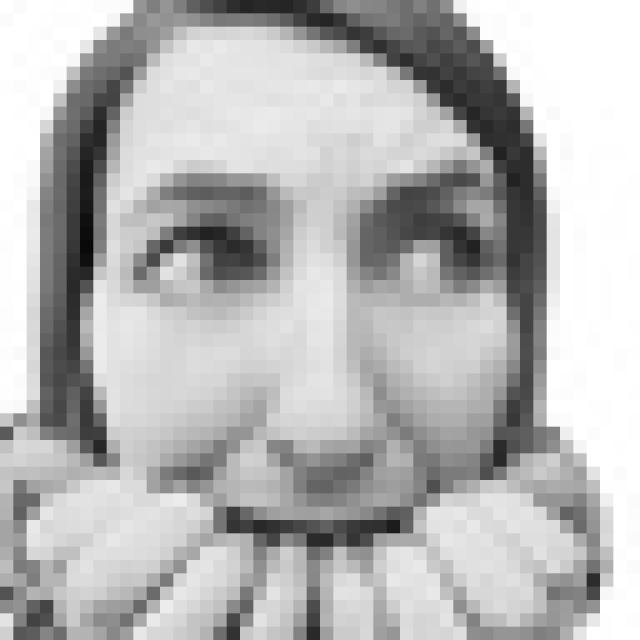fear: (124, 147, 499, 590)
